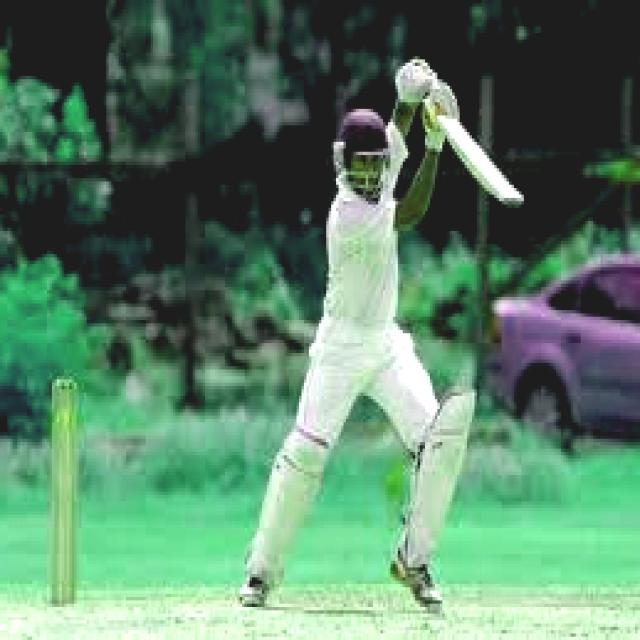toe: (480, 176, 528, 209)
